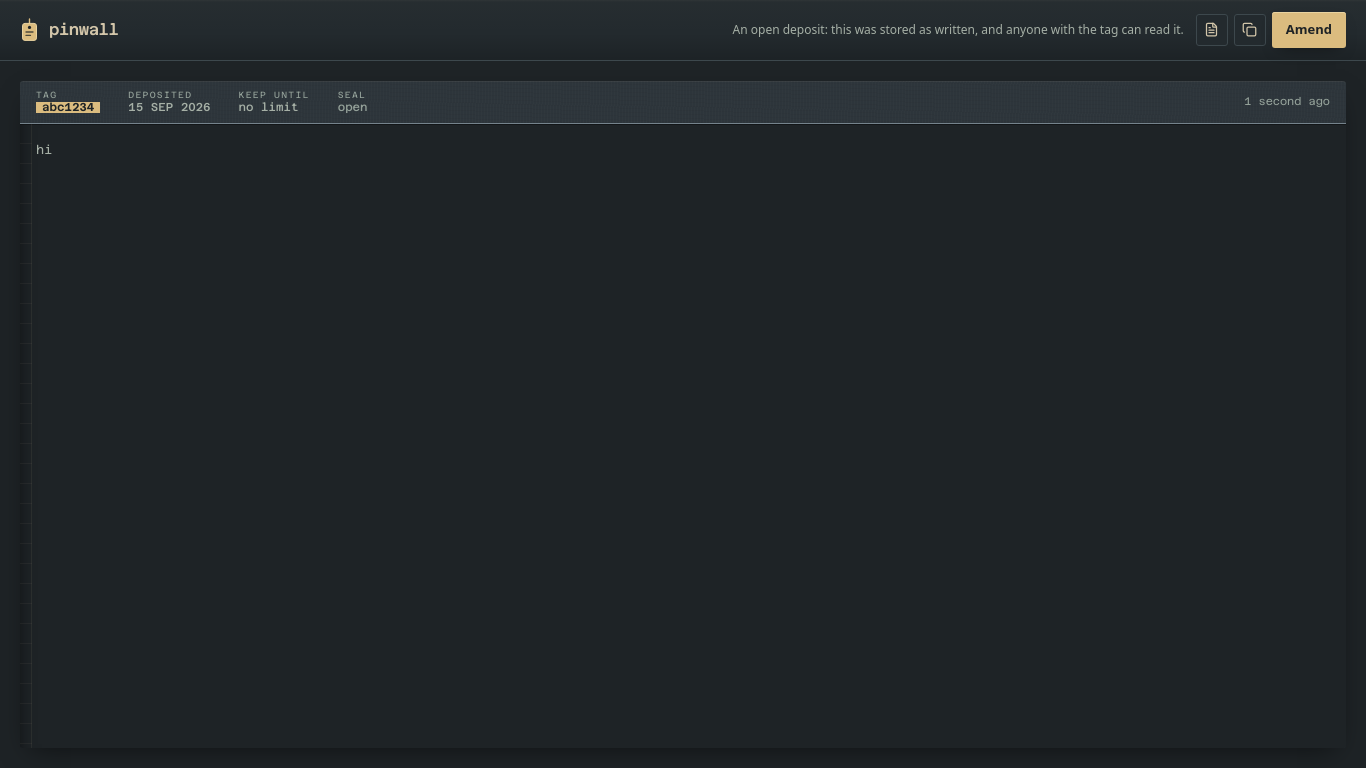
Test case: Viewer › surfaces a rejected edit token
The image size is (1366, 768).
Click the button "Amend" at (1309,30), box [1272,12,1346,48]
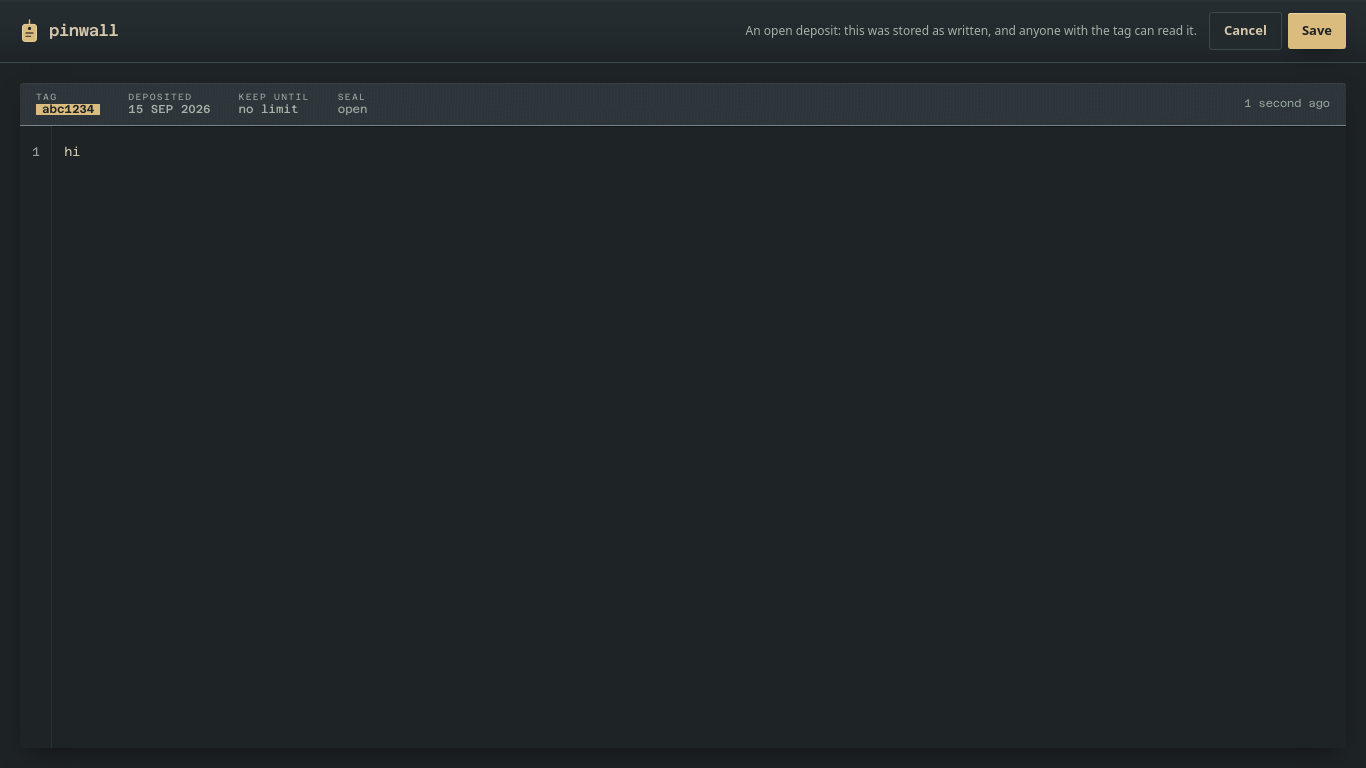
Click the button "Save" at (1317,31), box [1288,13,1346,48]
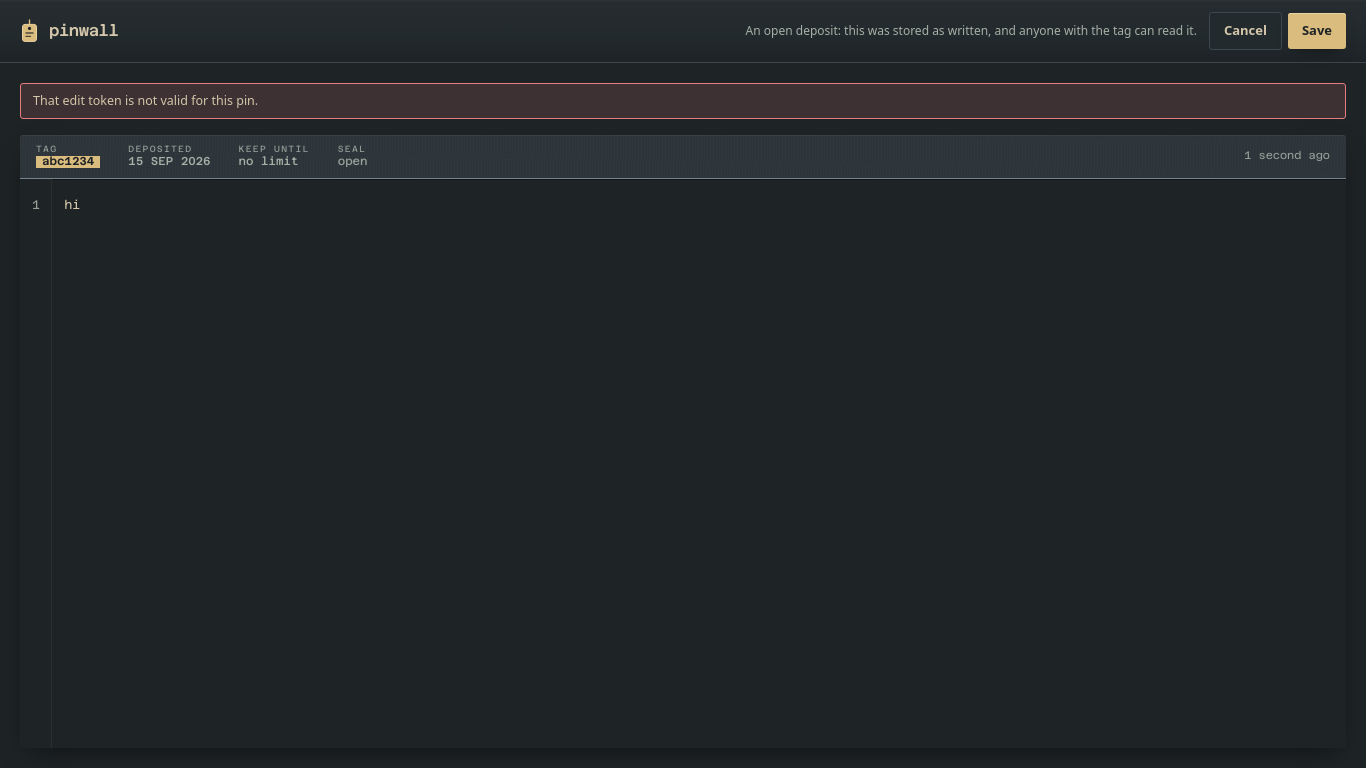
Check: the message shows "not valid", box [33,92,258,108]
